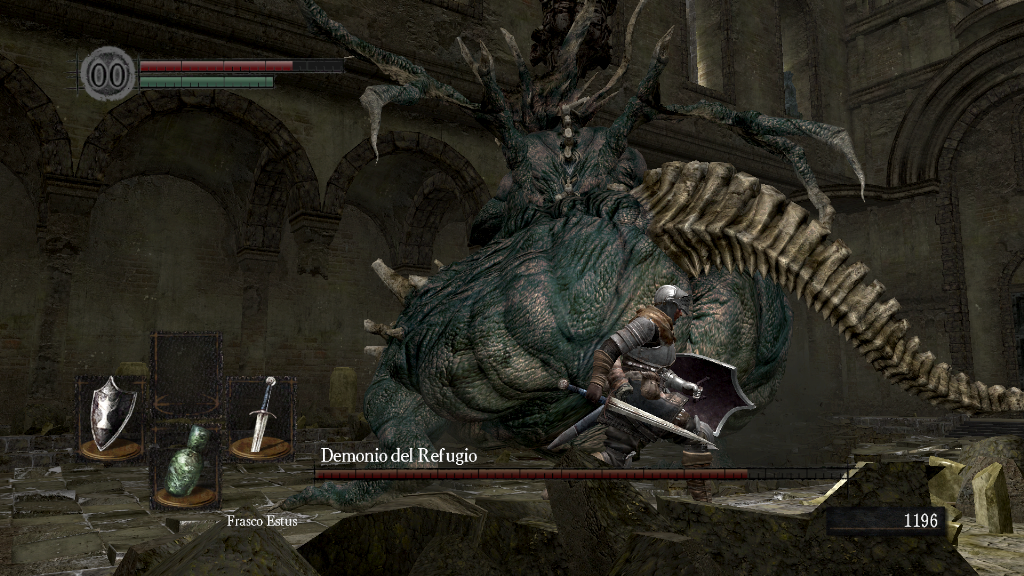asylumDemon: (272, 1, 1024, 507)
bossHP: (314, 469, 847, 479)
health: (138, 58, 343, 71)
humanity: (80, 45, 136, 102)
player: (558, 286, 759, 504)
souls: (825, 506, 945, 536)
stamina: (138, 74, 274, 88)
